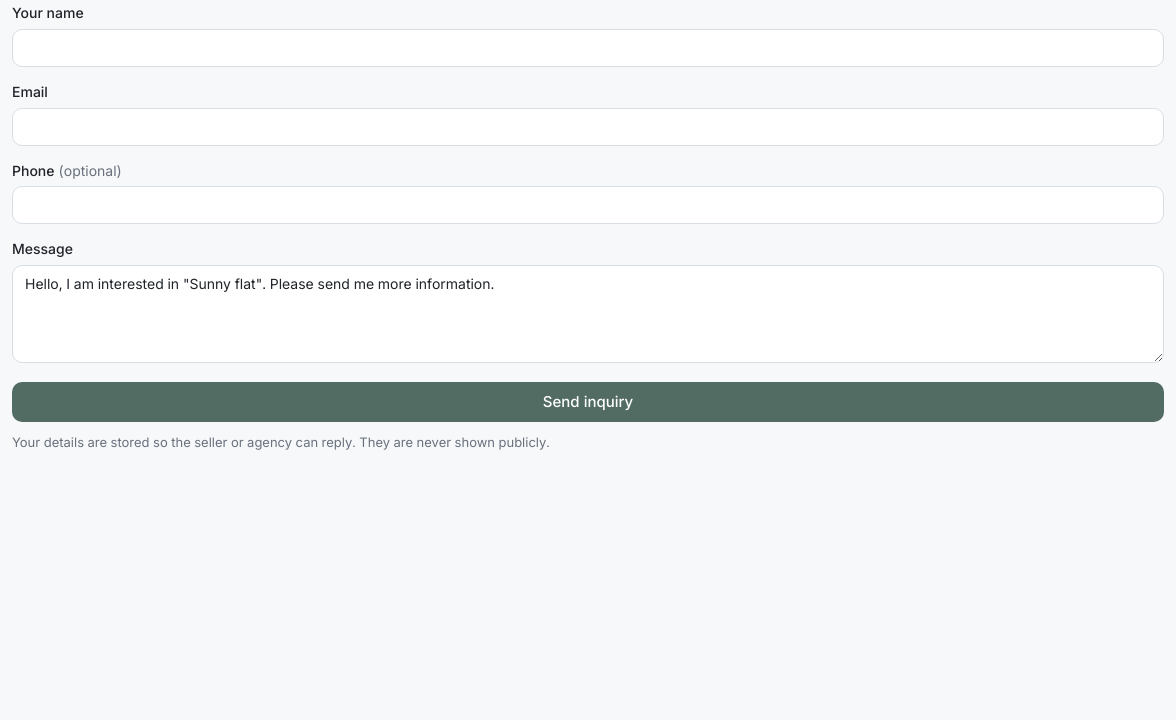
Test: inquiry form › does not claim success when the backend refuses
Step 1. Type "Ann" into the field labelled "Your name" → (588, 48), box [12, 29, 1164, 67]
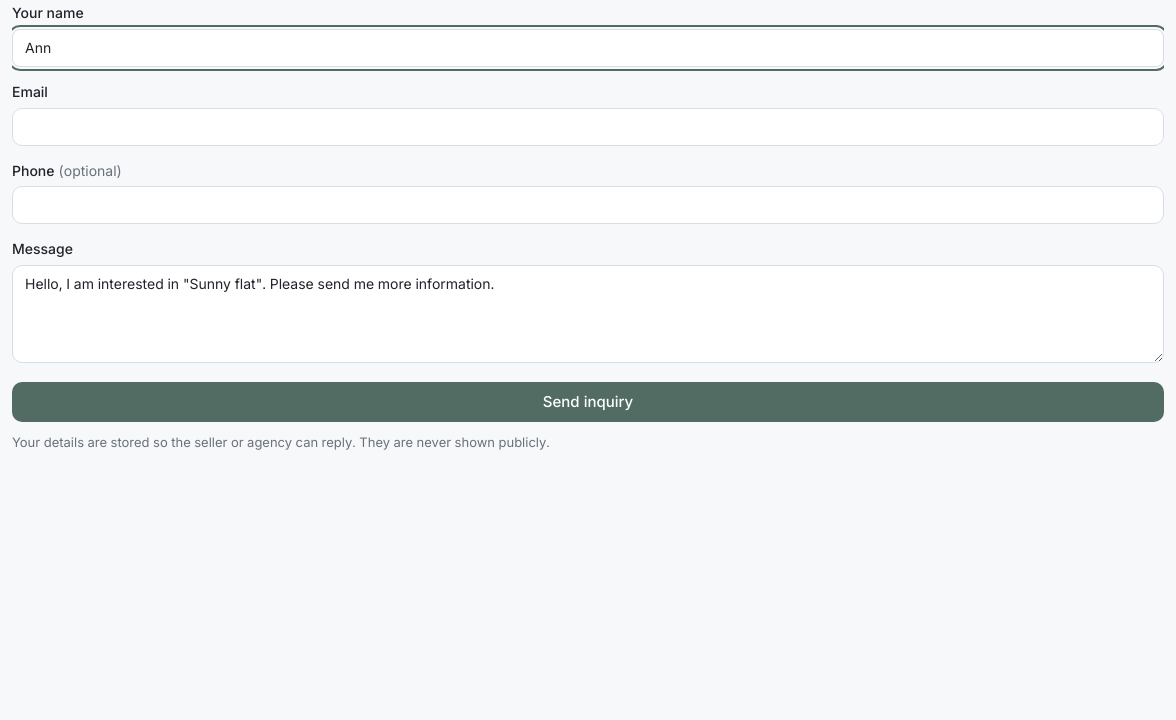
Step 2. Type "ann@example.com" into the field labelled "Email" → (588, 127), box [12, 108, 1164, 146]
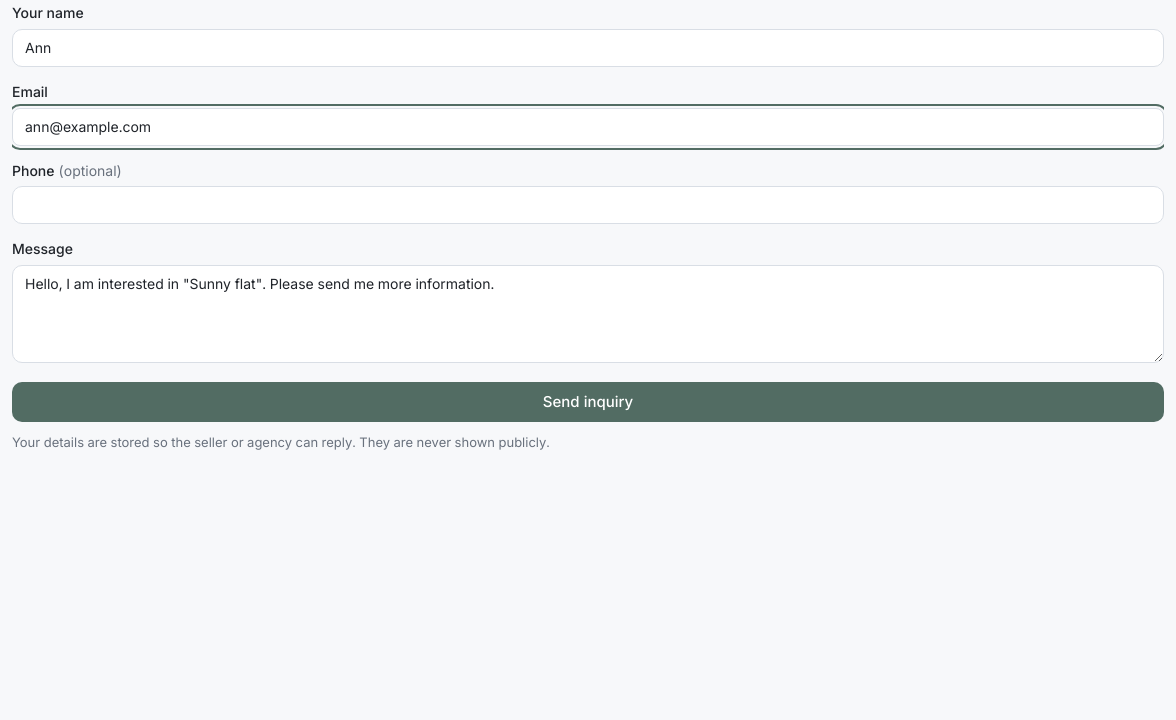
Step 3. Click the button "Send inquiry" → (588, 402), box [12, 382, 1164, 422]
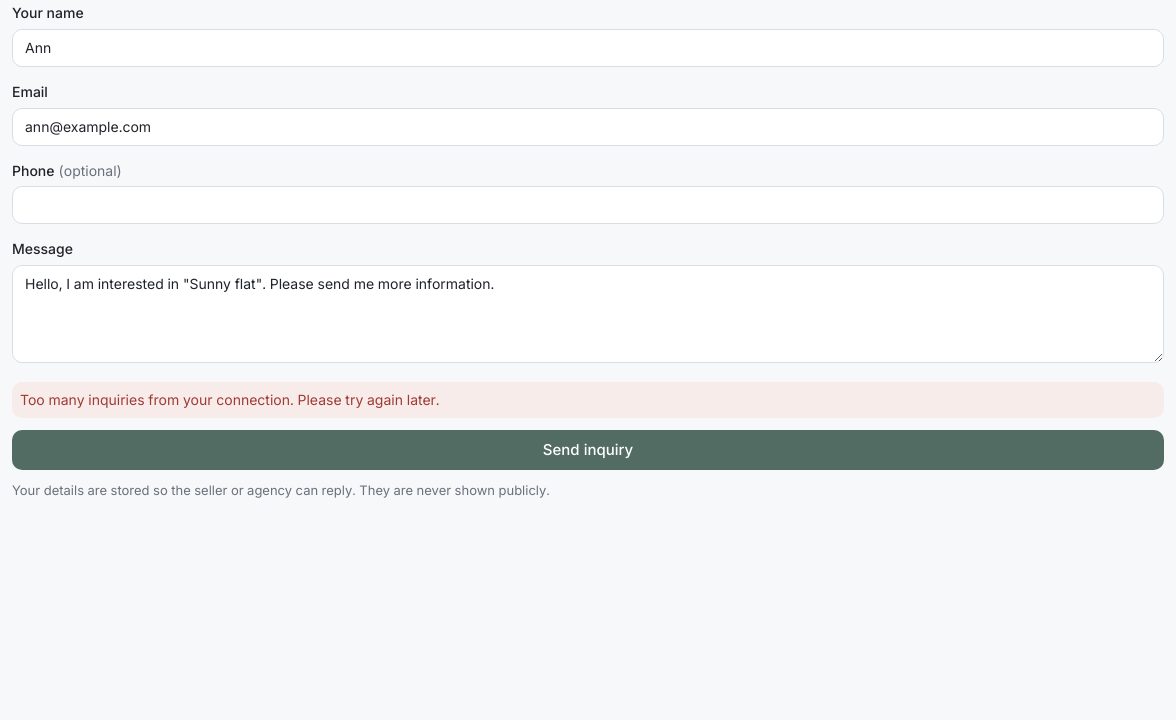
Expected: the message shows "Too many inquiries", [20, 391, 440, 408]
